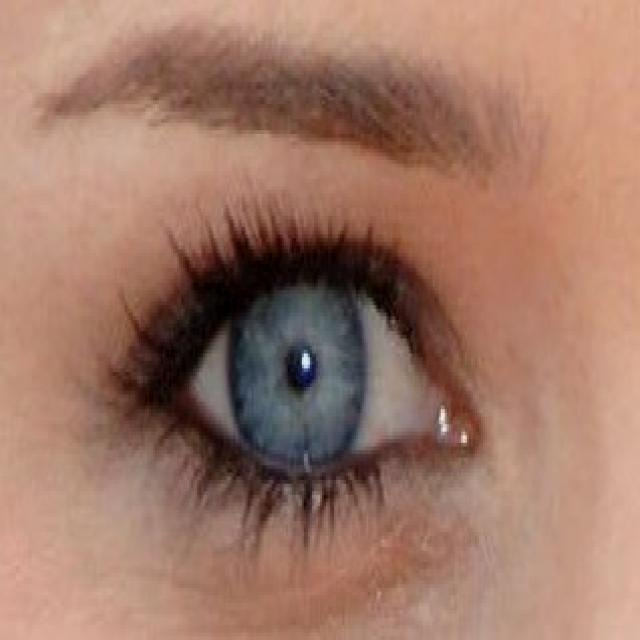Normal: (110, 188, 547, 523)
